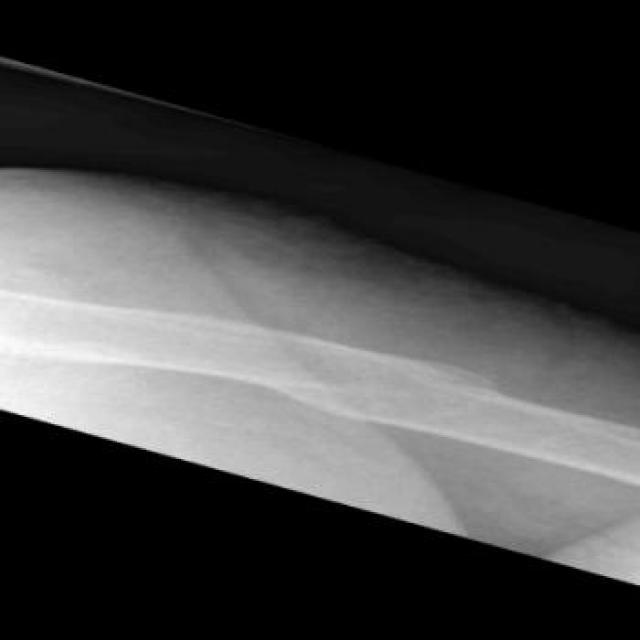Fracture: (262, 349, 518, 424)
